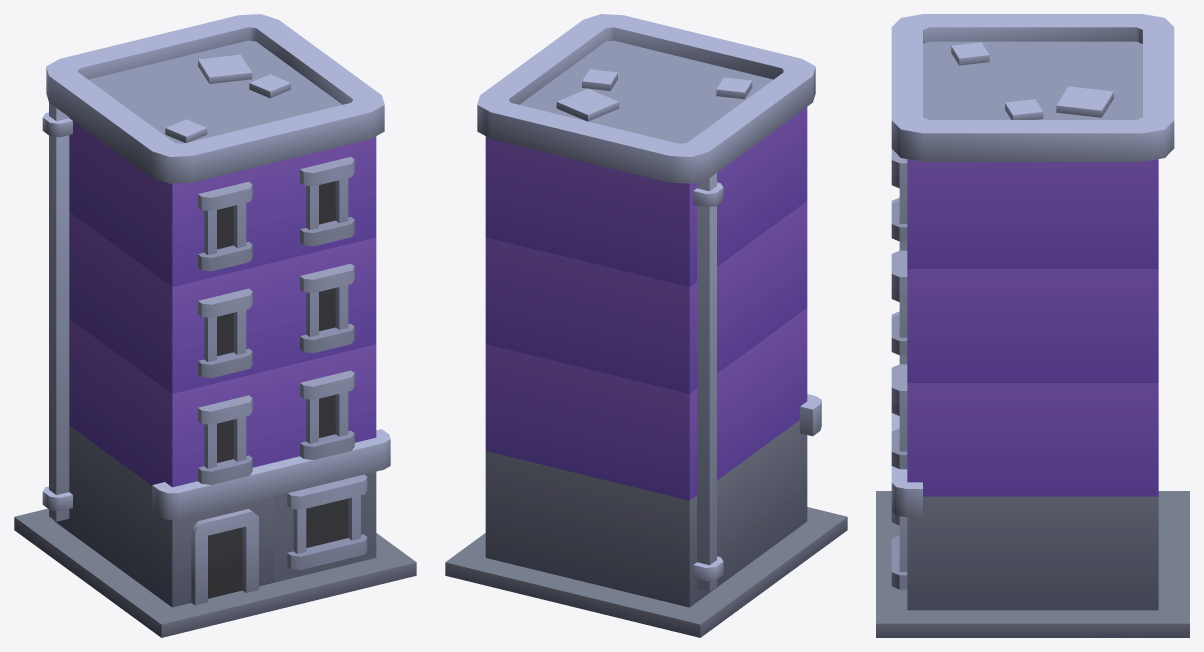
File: building-small-c.glb
3 renders of one model, left to right at view 1: azimuth 30°, elevation 25°; view 2: azimuth 150°, elevation 25°; view 3: azimuth 270°, elevation 25°, orthographic. The views are drawn at different scales.
Parts seen in each view (by area): view 1: building-small-c; view 2: building-small-c; view 3: building-small-c.
Part boxes in pixels (left/top/right/bottom): building-small-c: left=14, top=14, right=416, bottom=637; building-small-c: left=445, top=14, right=847, bottom=637; building-small-c: left=876, top=14, right=1189, bottom=637.
Size of the model in its own units: 1 by 1.75 by 1.
Materials: 1 (1 with a texture image).
